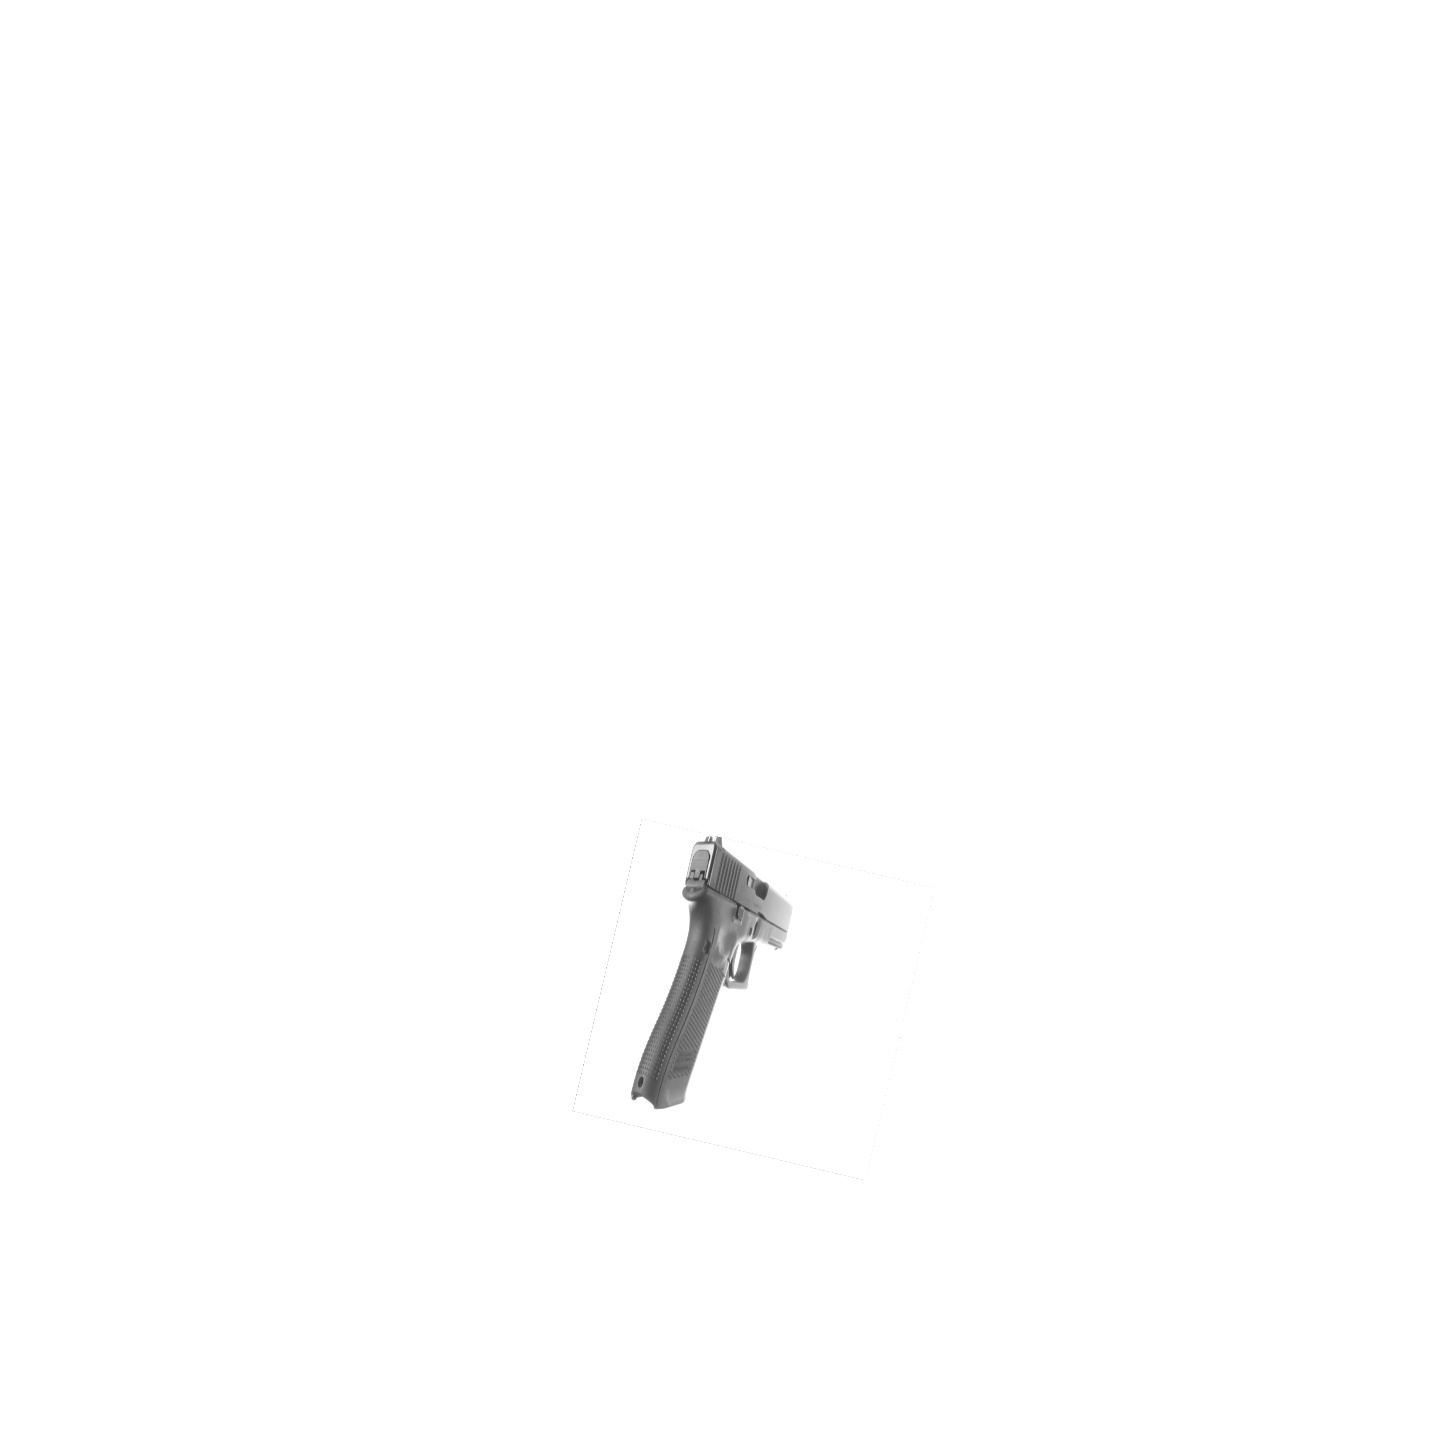gun: (615, 827, 806, 1115)
